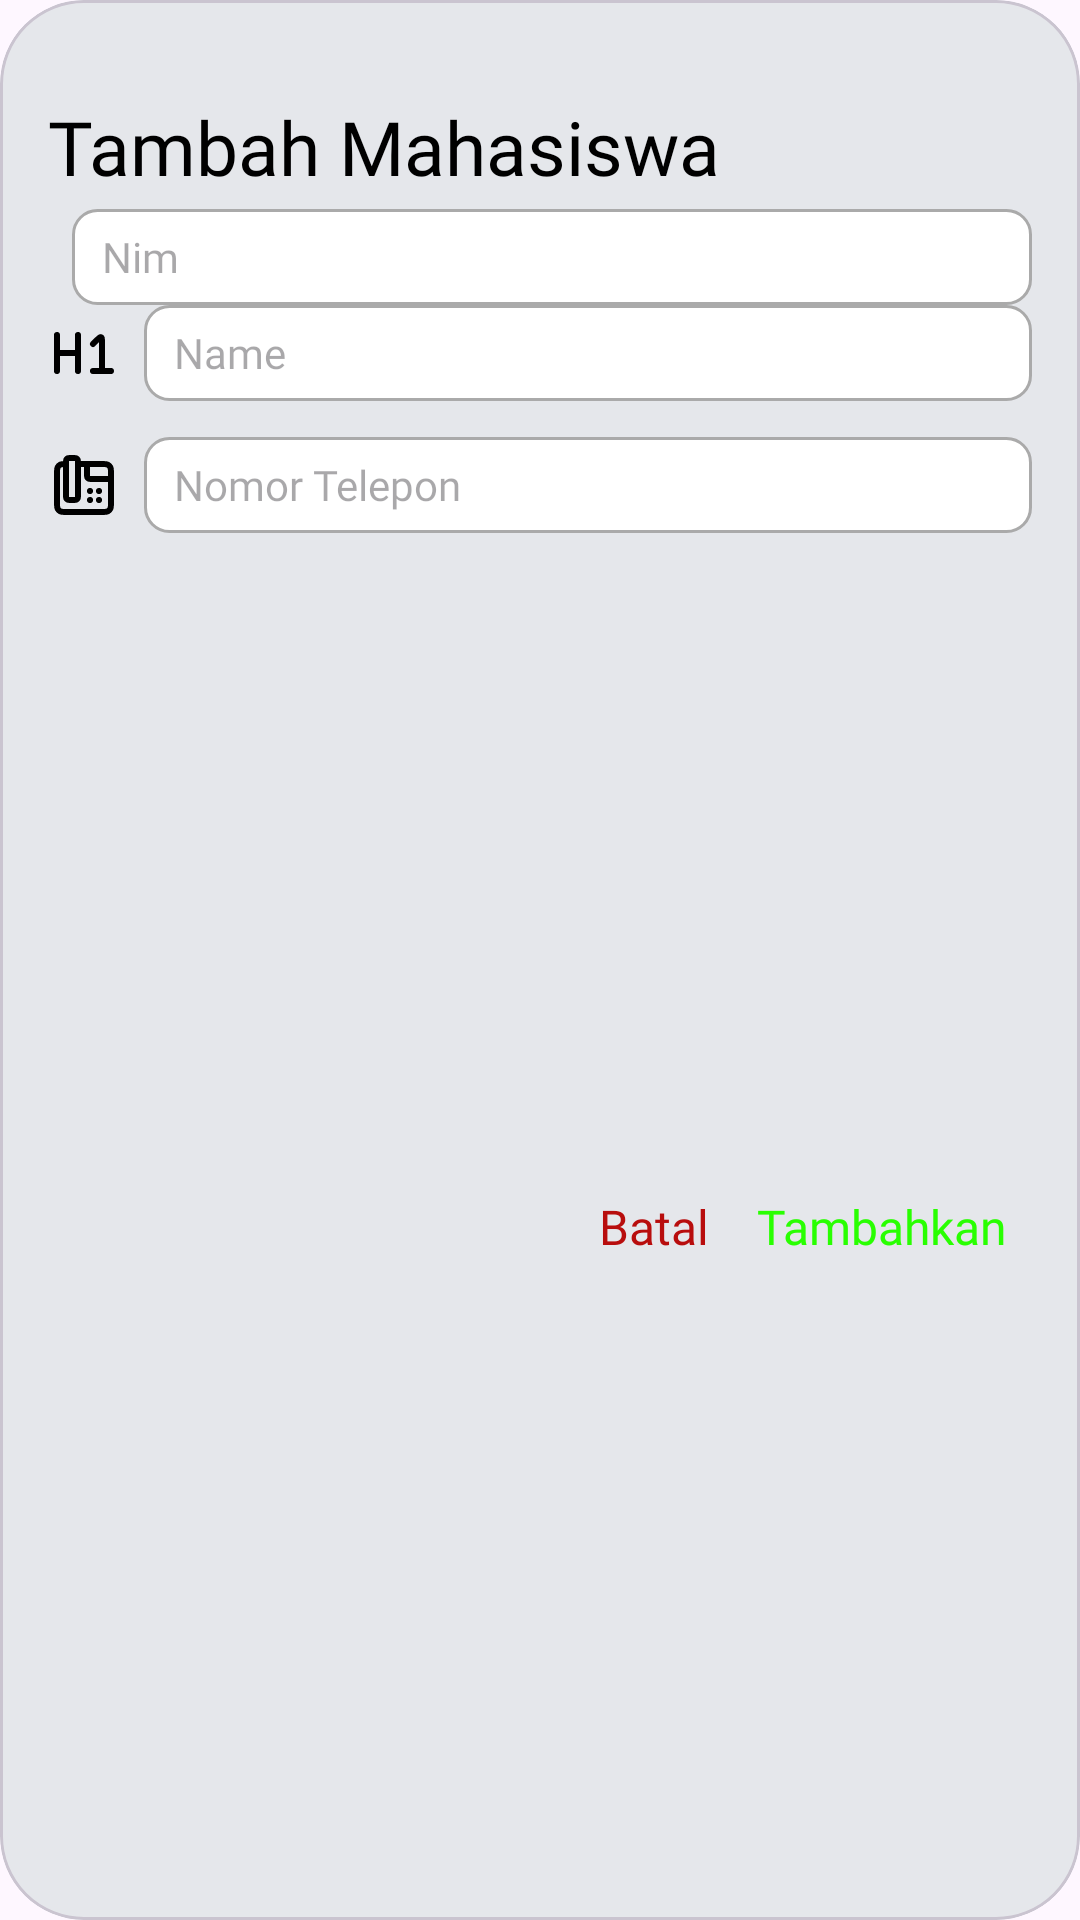

Point at icon controls on the screen. Image size 1080 × 1920, points as (x,y).
phone office: (84,485)
